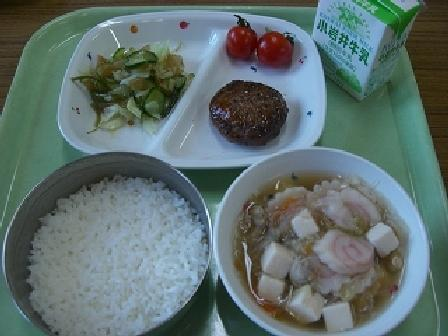Cherry tomatoes: (226, 14, 303, 69)
Meat: (200, 73, 294, 150)
Milk: (315, 0, 429, 87)
Rice: (6, 153, 205, 326)
Soups: (220, 155, 417, 325)
salad with sauce: (71, 44, 196, 133)
